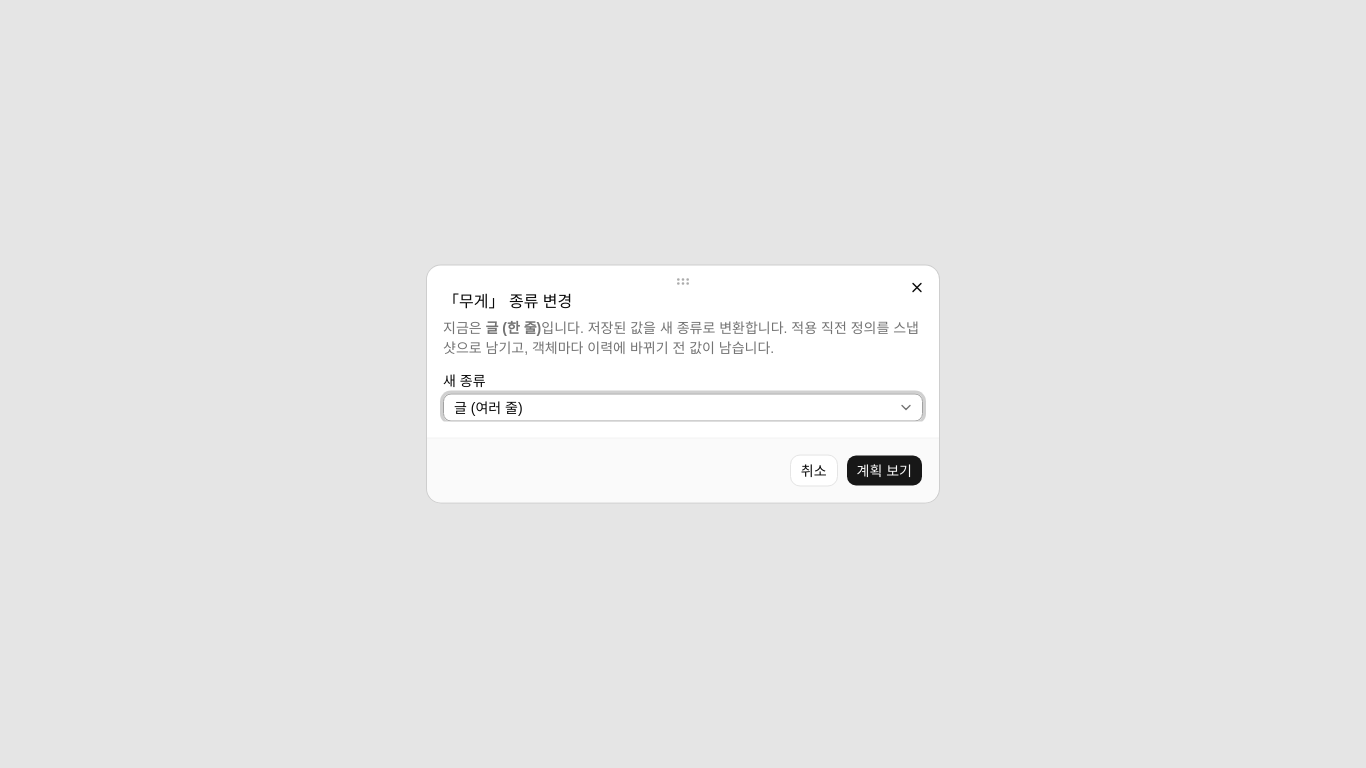
Test case: 종류 변경 창 › 공개 타입이면 수신 시스템 확인 전에는 적용 단추가 없다
Click the button "계획 보기" at (884, 470), box top-left (846, 454), bottom-right (923, 486)
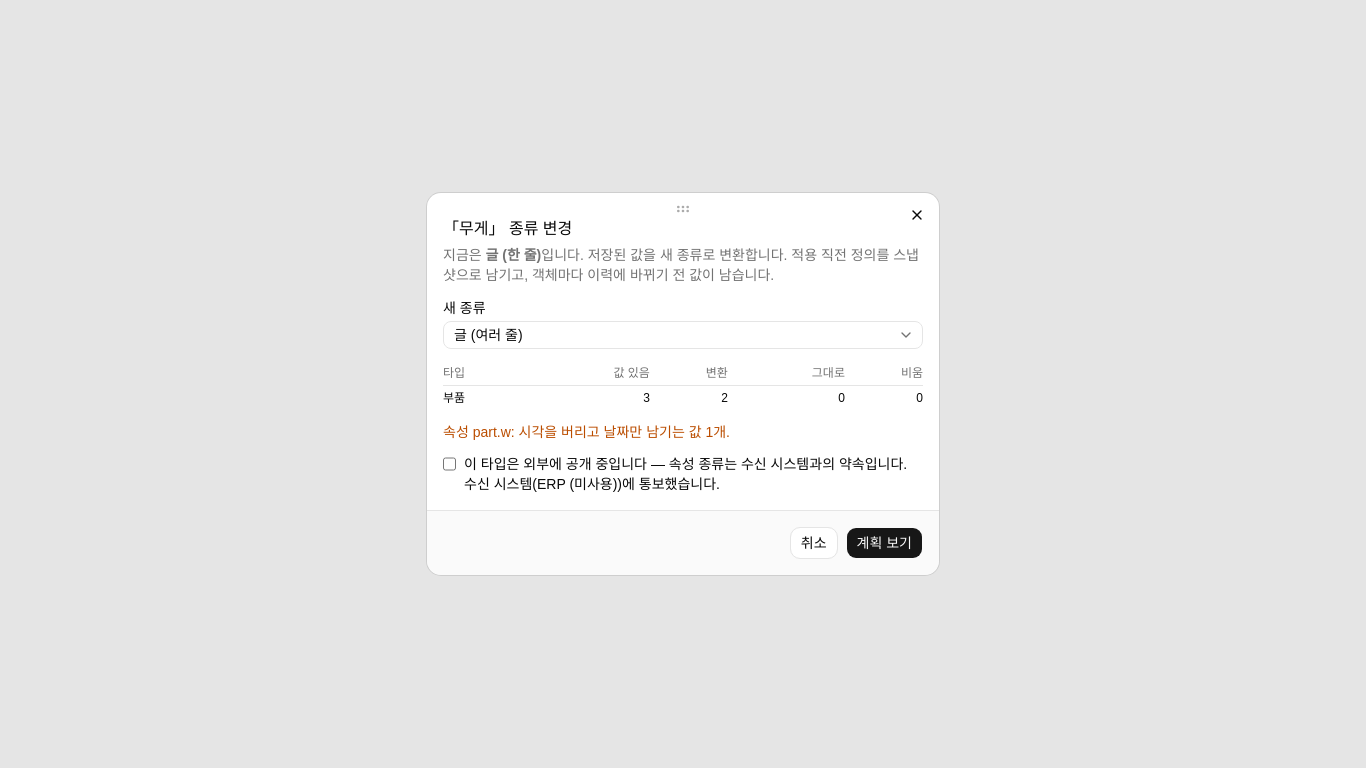
Check: the button "종류 변경 —" is not shown
Check: the text "ERP (미사용)" is shown, box top-left (537, 476), bottom-right (617, 492)
Click the checkbox labelled "통보했습니다" at (450, 464), box top-left (443, 456), bottom-right (456, 472)
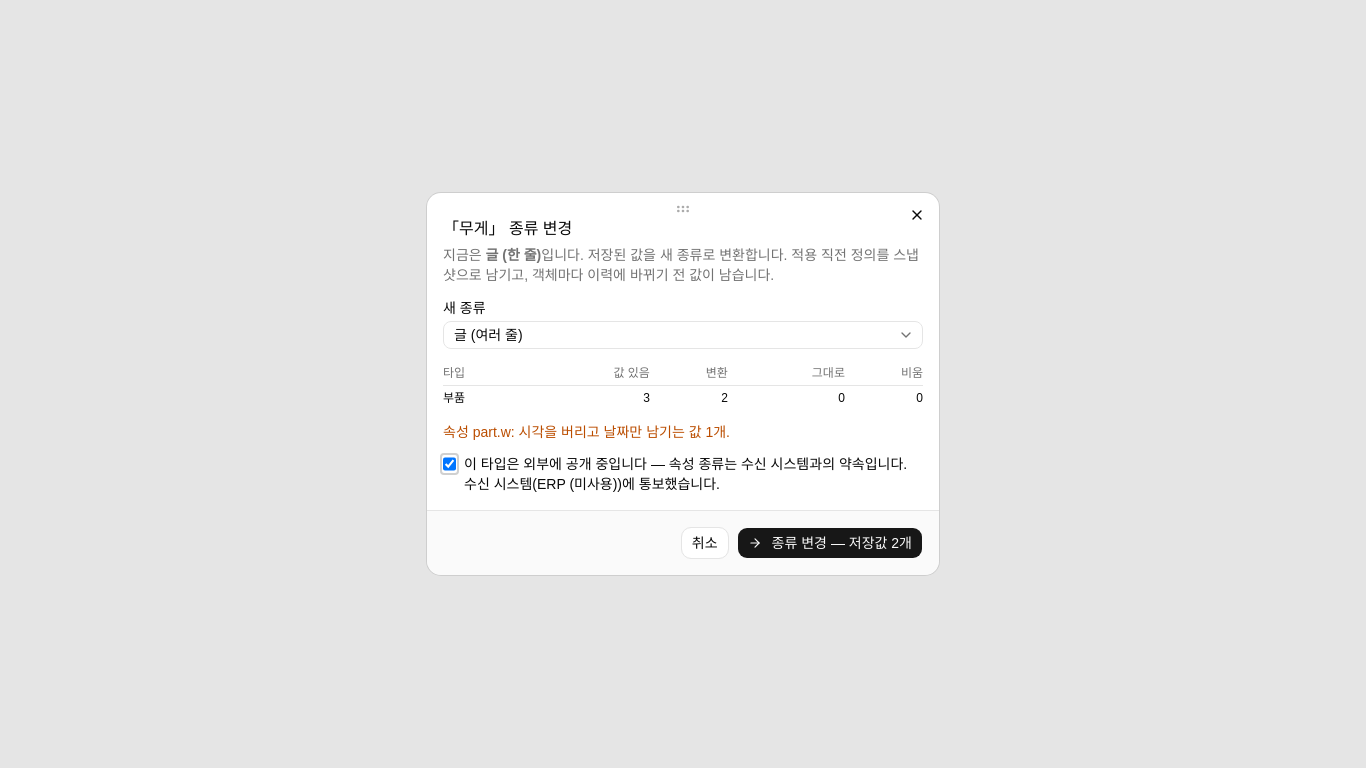
Check: the button "종류 변경 — 저장값 2개" is shown, box top-left (737, 527), bottom-right (923, 559)
